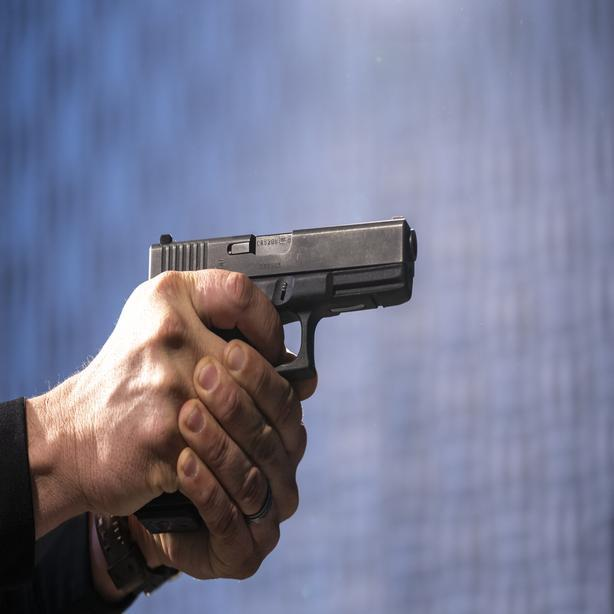Firearm: (68, 198, 447, 535)
